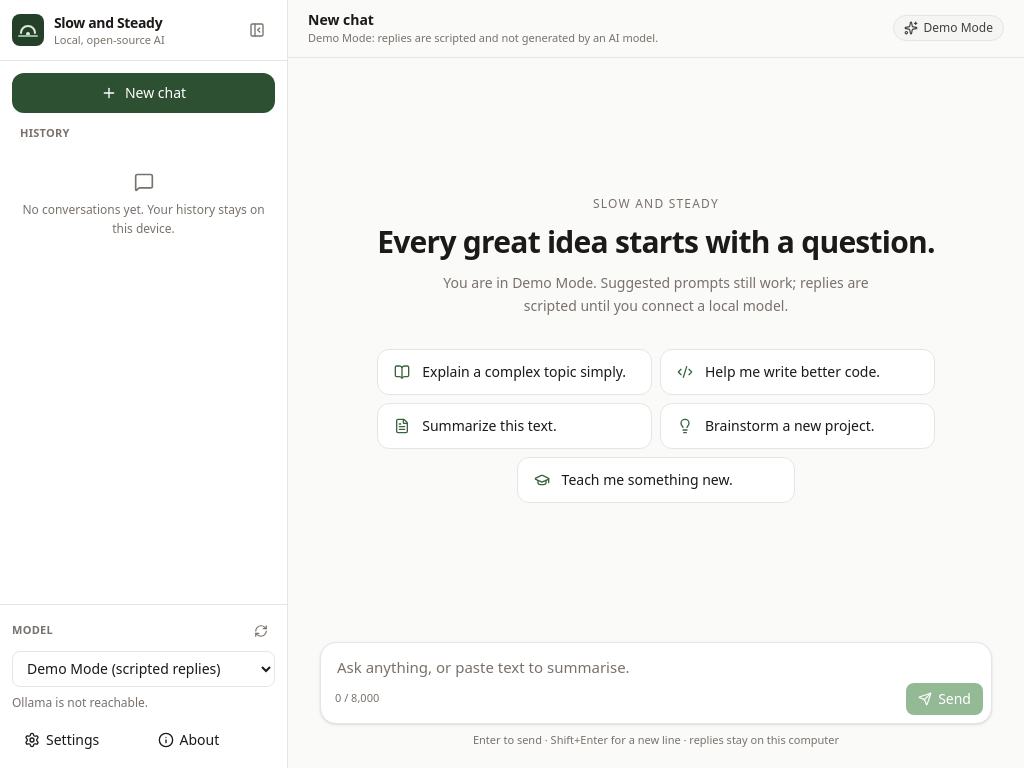
Scenario: Slow and Steady chat › sends a prompt, streams the reply, and keeps demo replies labelled
Step 1. Type "hello there" into the text box with placeholder "Ask anything, or paste text to summarise." → x=656, y=662, box [321, 642, 991, 682]
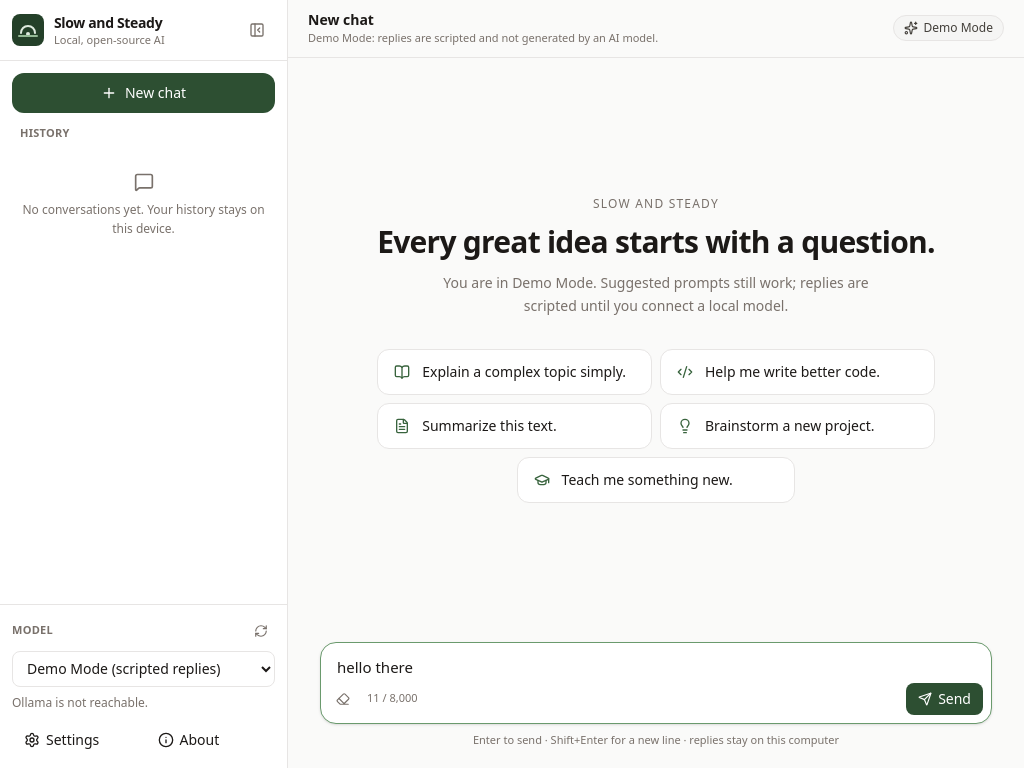
Step 2. Click the button with aria-label "send message" → x=945, y=698, box [906, 682, 983, 714]
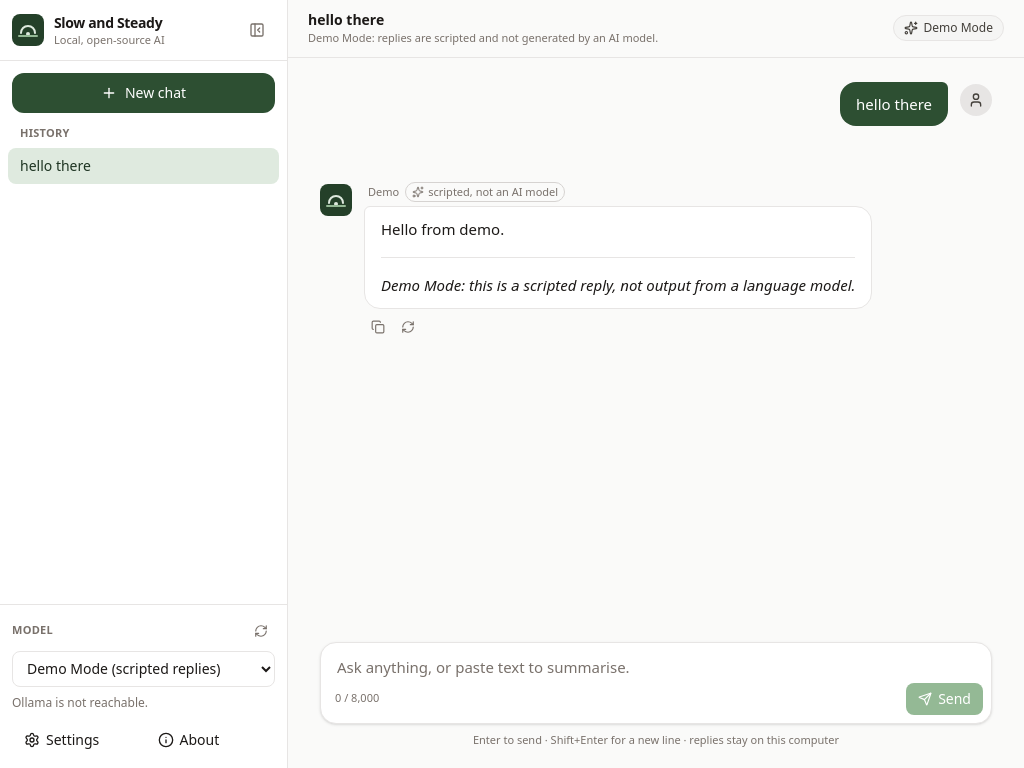
expect the text "Hello from demo." is shown: met, box [381, 219, 504, 239]
expect the text "scripted, not an AI model" is shown: met, box [405, 182, 565, 202]
expect the button named "regenerate response" is shown: met, box [394, 313, 422, 341]
